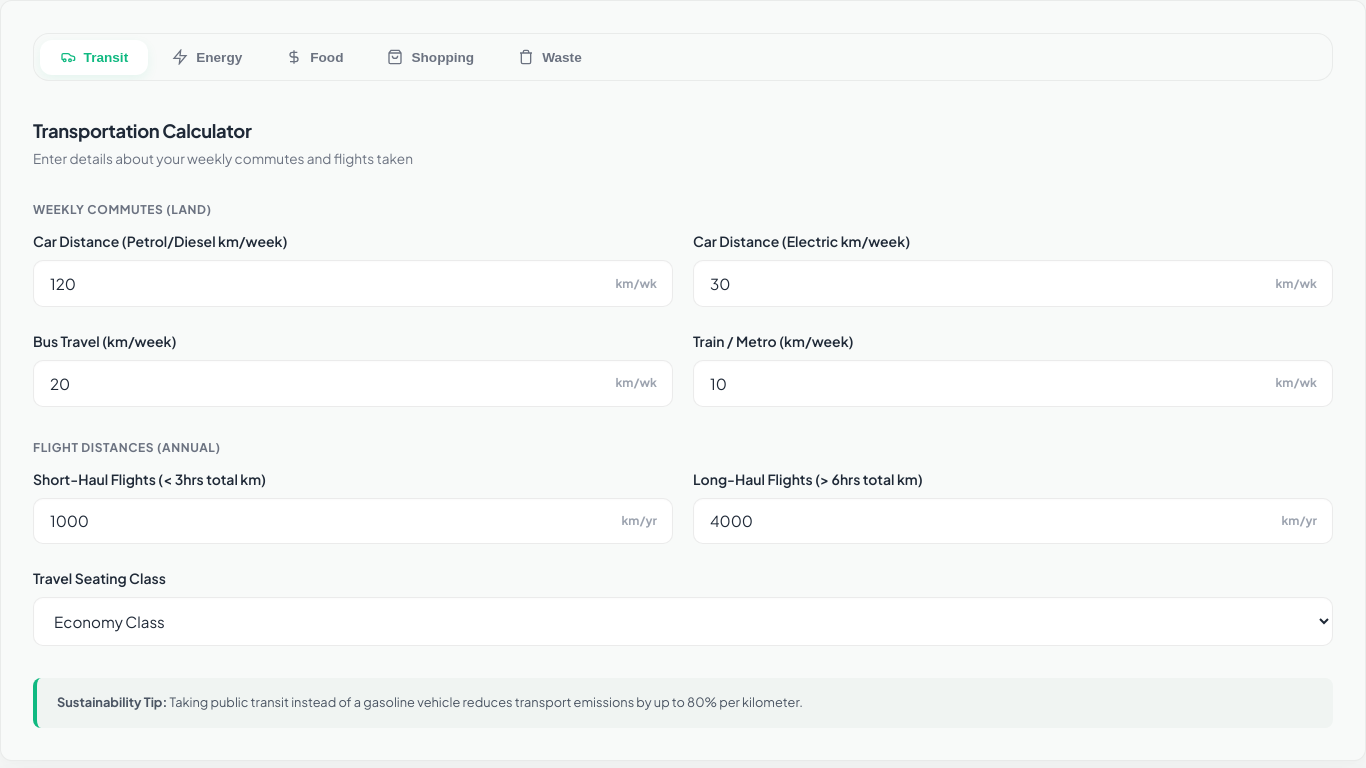
Test: Calculator component › switches to Food tab on click
Click the button with aria-label "Switch to Food tab" at (315, 57), box [266, 40, 364, 75]
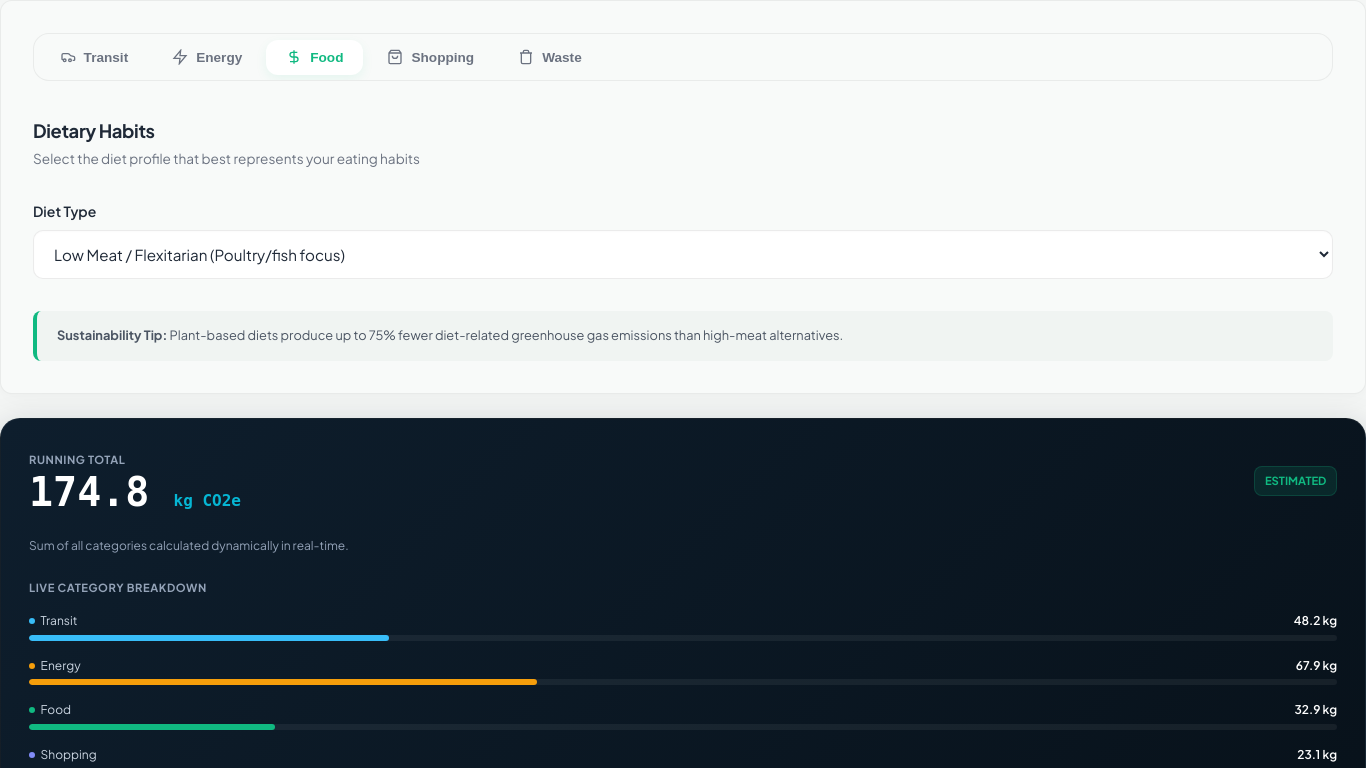
Now the heading "Dietary Habits" is shown, box [33, 119, 155, 142]
